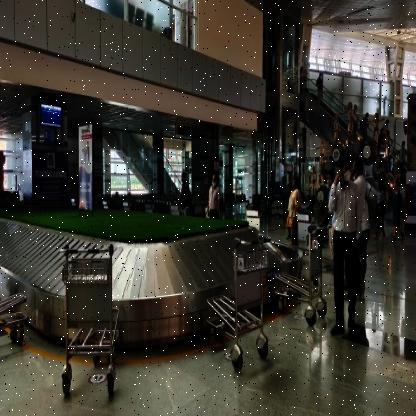airport-trolley: (60, 240, 124, 402), (206, 234, 274, 372), (268, 223, 330, 329), (0, 284, 28, 348)
